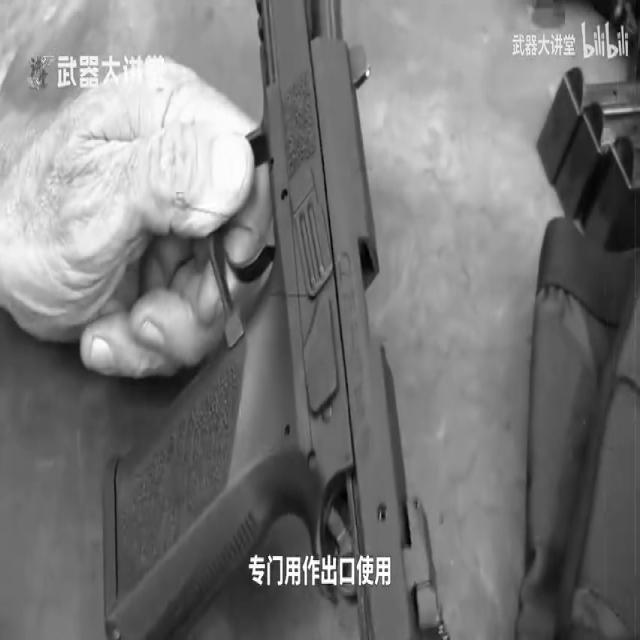Hand-Gun: (89, 0, 529, 640)
